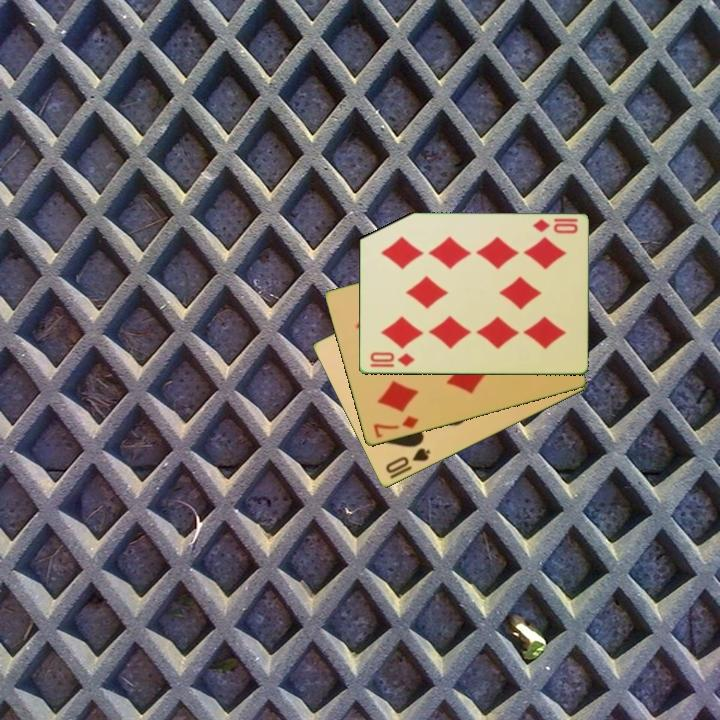10d: (529, 215, 580, 236), (366, 349, 417, 369)
10s: (382, 445, 433, 477)
7d: (370, 412, 421, 441)
